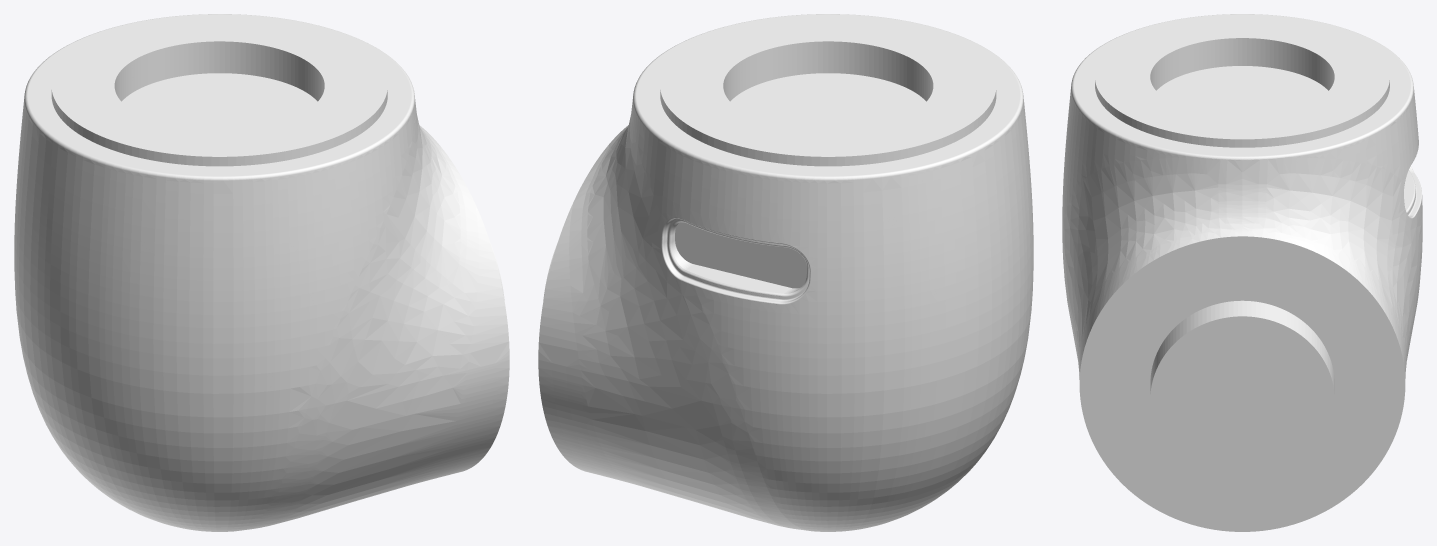
3 renders of one model, left to right at view 1: azimuth 30°, elevation 25°; view 2: azimuth 150°, elevation 25°; view 3: azimuth 270°, elevation 25°, orthographic. The views are drawn at different scales.
Parts seen in each view (by area): view 1: tmp_export_j6; view 2: tmp_export_j6; view 3: tmp_export_j6.
Boxes of the visible parts, bbox=[...] form: tmp_export_j6: bbox=[14, 14, 509, 531]; tmp_export_j6: bbox=[538, 14, 1033, 531]; tmp_export_j6: bbox=[1062, 14, 1422, 531].
Size of the model in its own units: 0.0678 by 0.0586 by 0.0673.
Materials: 1 (1 with a texture image).
